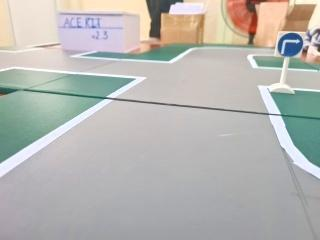right: (269, 22, 310, 62)
